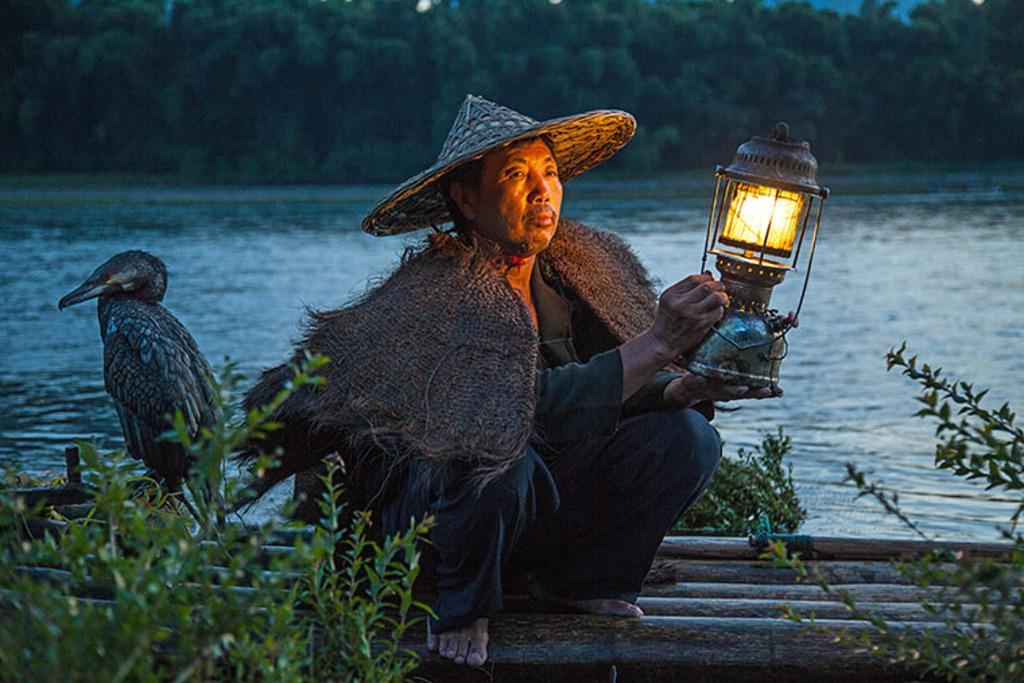Hat: (362, 94, 640, 239)
